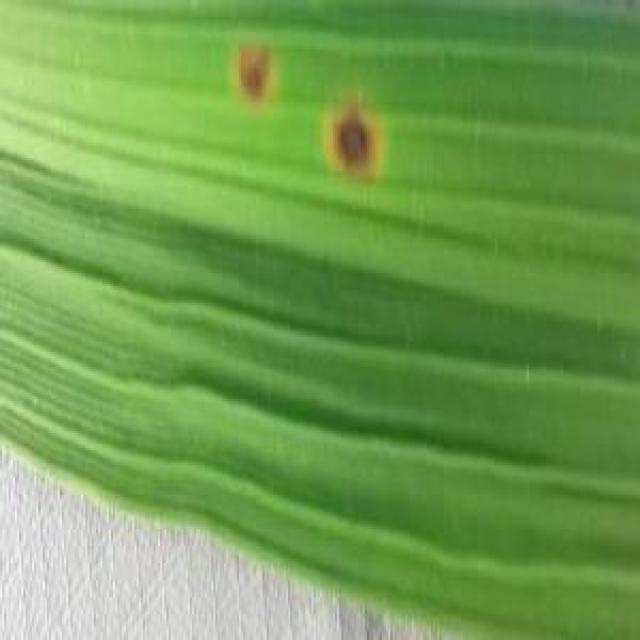Brown_Spot: (319, 101, 388, 191), (232, 31, 284, 114)
